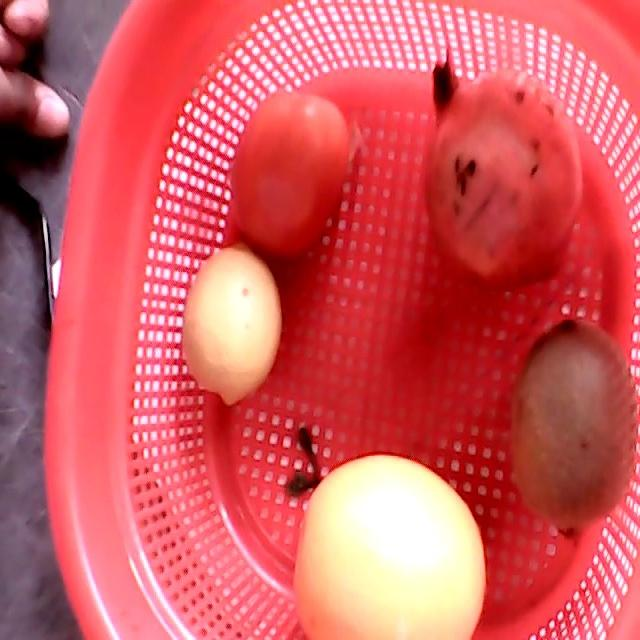kiwi: (511, 316, 636, 539)
lemon: (180, 246, 281, 407)
orange: (291, 457, 486, 639)
pomegranate: (424, 51, 581, 297)
tomato: (229, 86, 352, 260)
